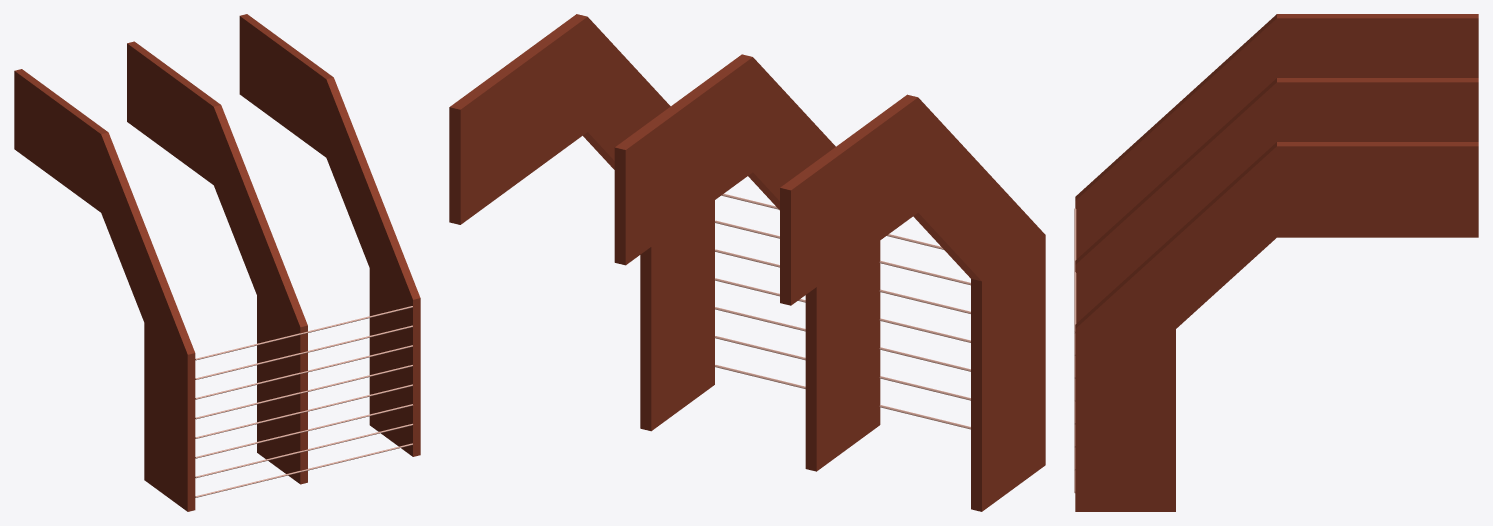
File: strauch.glb
3 views of the same model, side by side, from view 1: azimuth 30°, elevation 25°; view 2: azimuth 150°, elevation 25°; view 3: azimuth 270°, elevation 25° (orthographic). The views are drawn at different scales.
Visible parts, largest first — view 1: Plane.006, Plane.005, Plane, Plane.003, Plane.008, Plane.002, Plane.004, Plane.007, Plane.001, Cylinder, Cylinder.001, Cylinder.002 (+5 smaller); view 2: Plane.006, Plane.003, Plane.008, Plane.002, Plane, Plane.005, Plane.007, Plane.004, Plane.001; view 3: Plane.005, Plane.003, Plane.002, Plane.008, Plane.004, Plane.001, Plane.007, Plane.006, Plane.
Part boxes in pixels (bbox=[...]): Plane.006: bbox=[144, 243, 195, 511]; Plane.005: bbox=[369, 188, 420, 456]; Plane: bbox=[257, 215, 307, 484]; Plane.003: bbox=[239, 14, 333, 157]; Plane.008: bbox=[14, 69, 108, 212]; Plane.002: bbox=[127, 41, 220, 184]; Plane.004: bbox=[326, 77, 376, 267]; Plane.007: bbox=[101, 132, 151, 321]; Plane.001: bbox=[213, 105, 264, 294]; Cylinder: bbox=[195, 306, 412, 360]; Cylinder.001: bbox=[195, 325, 412, 379]; Cylinder.002: bbox=[195, 365, 412, 419]; Plane.006: bbox=[971, 166, 1045, 511]; Plane.003: bbox=[449, 14, 587, 224]; Plane.008: bbox=[780, 94, 918, 305]; Plane.002: bbox=[614, 54, 752, 265]; Plane: bbox=[805, 126, 880, 471]; Plane.005: bbox=[640, 86, 714, 431]; Plane.007: bbox=[913, 98, 981, 281]; Plane.004: bbox=[583, 17, 651, 169]; Plane.001: bbox=[748, 57, 816, 210]; Plane.005: bbox=[1075, 234, 1175, 511]; Plane.003: bbox=[1277, 142, 1478, 237]; Plane.002: bbox=[1277, 78, 1478, 141]; Plane.008: bbox=[1277, 14, 1478, 77]; Plane.004: bbox=[1176, 142, 1276, 328]; Plane.001: bbox=[1176, 78, 1276, 232]; Plane.007: bbox=[1176, 14, 1276, 168]; Plane.006: bbox=[1075, 106, 1175, 259]; Plane: bbox=[1075, 170, 1175, 323].
Bounding box in the file's own units: 3.1 × 4 × 4.01.
